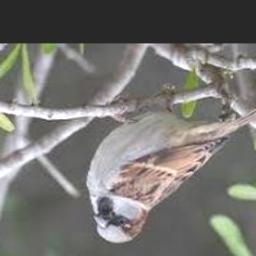Sparrow: (85, 100, 256, 243)
